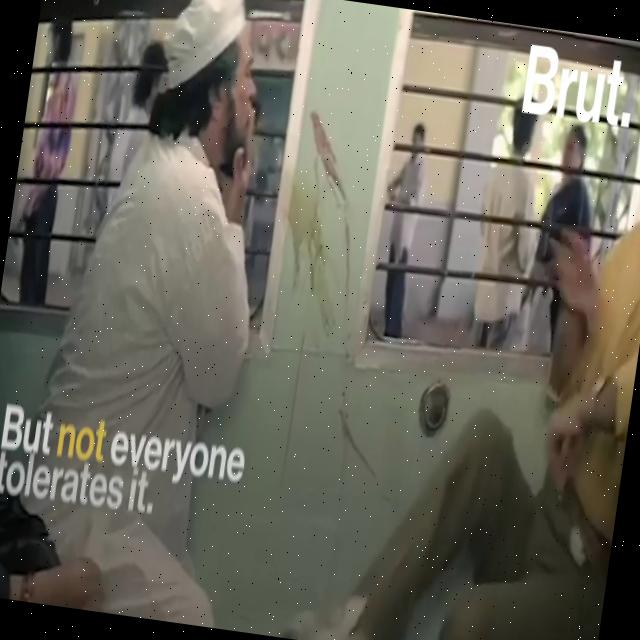spit: (229, 67, 366, 367)
